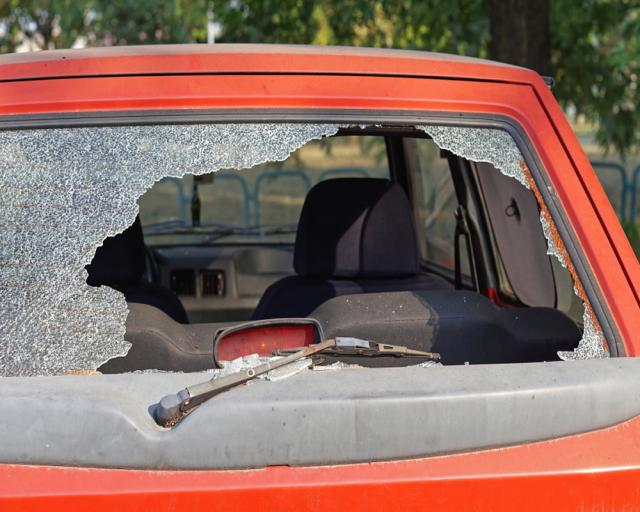glass shatter: (0, 121, 610, 377)
